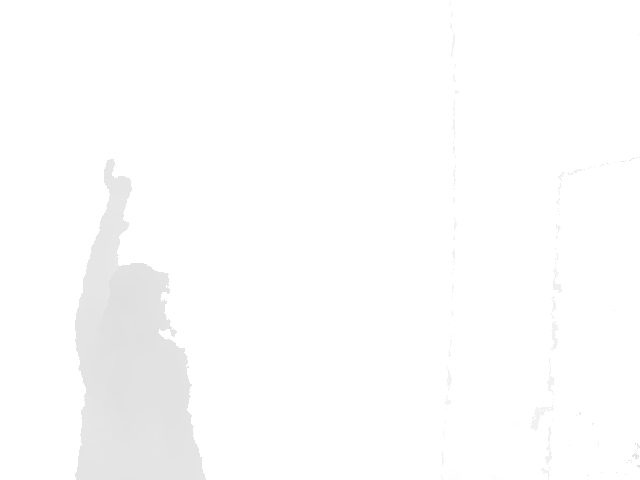hand: (101, 156, 134, 205)
head: (103, 263, 178, 343)
person: (73, 157, 210, 480)
